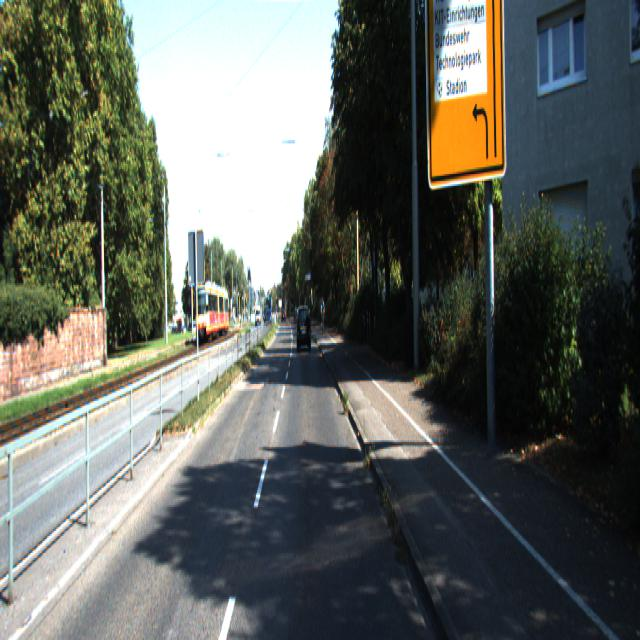Car: (195, 282, 230, 343), (297, 304, 312, 352)
